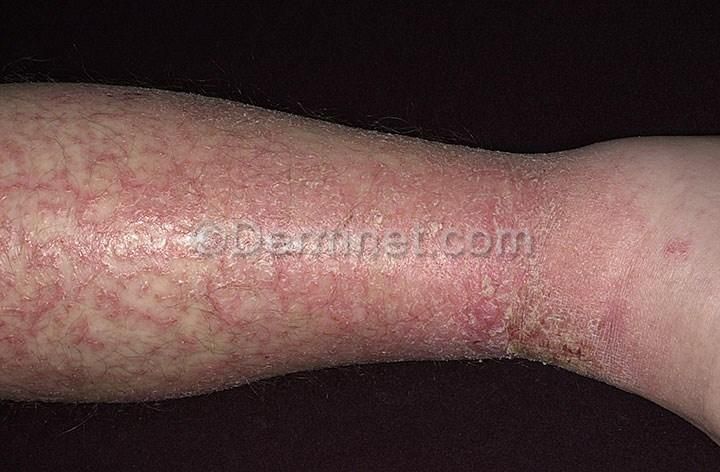Eczema: (164, 116, 409, 215), (51, 289, 410, 356), (481, 274, 581, 357), (472, 154, 556, 224)
